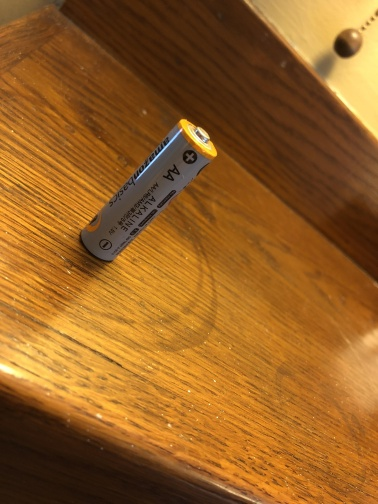battery: (76, 116, 220, 264)
